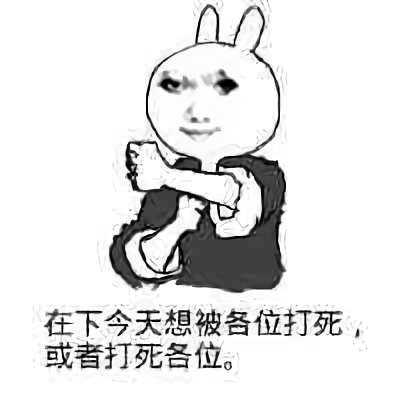dragon: (159, 70, 241, 142)
